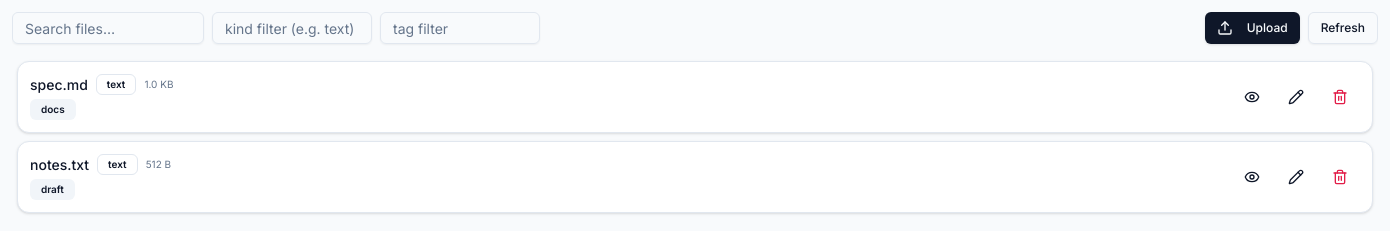
Test: search filters via debounced server-side query param
Expected: the element with test id "project-file-f2" is shown, [17, 141, 1373, 213]
Type "spec" into the field with test id "project-files-search" at (108, 28), box [12, 12, 204, 44]
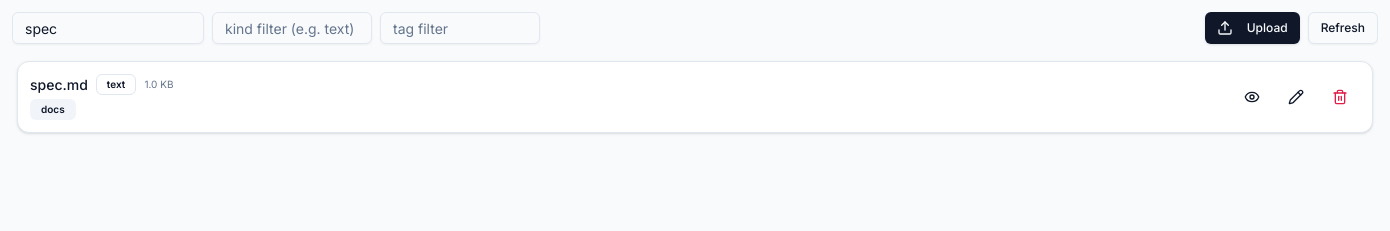
Expected: the element with test id "project-file-f1" is shown, [17, 61, 1373, 133]
Now the element with test id "project-file-f2" is gone
